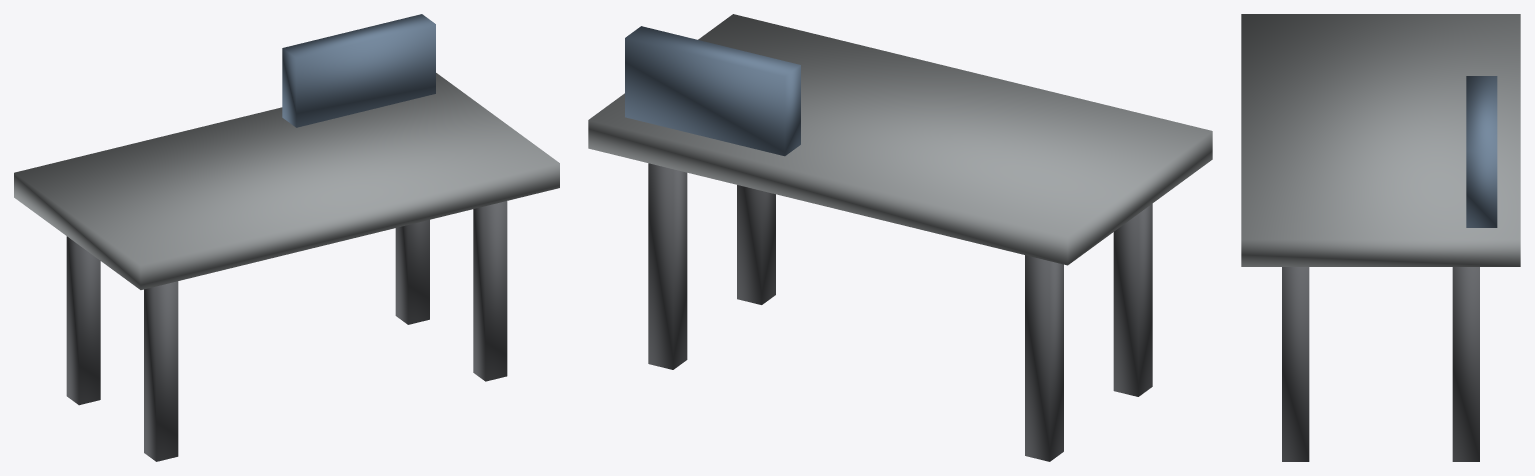
The model's file is welding_table__squat.glb.
3 renders of one model, left to right at view 1: azimuth 30°, elevation 25°; view 2: azimuth 150°, elevation 25°; view 3: azimuth 270°, elevation 25°, orthographic. The views are drawn at different scales.
Parts seen in each view (by area): view 1: world; view 2: world; view 3: world.
Part boxes in pixels (x1=…): world: x1=14, y1=14, x2=559, y2=461; world: x1=588, y1=14, x2=1212, y2=461; world: x1=1241, y1=14, x2=1520, y2=461.
Size of the model in its own units: 1.49 by 0.9744 by 0.7776.
